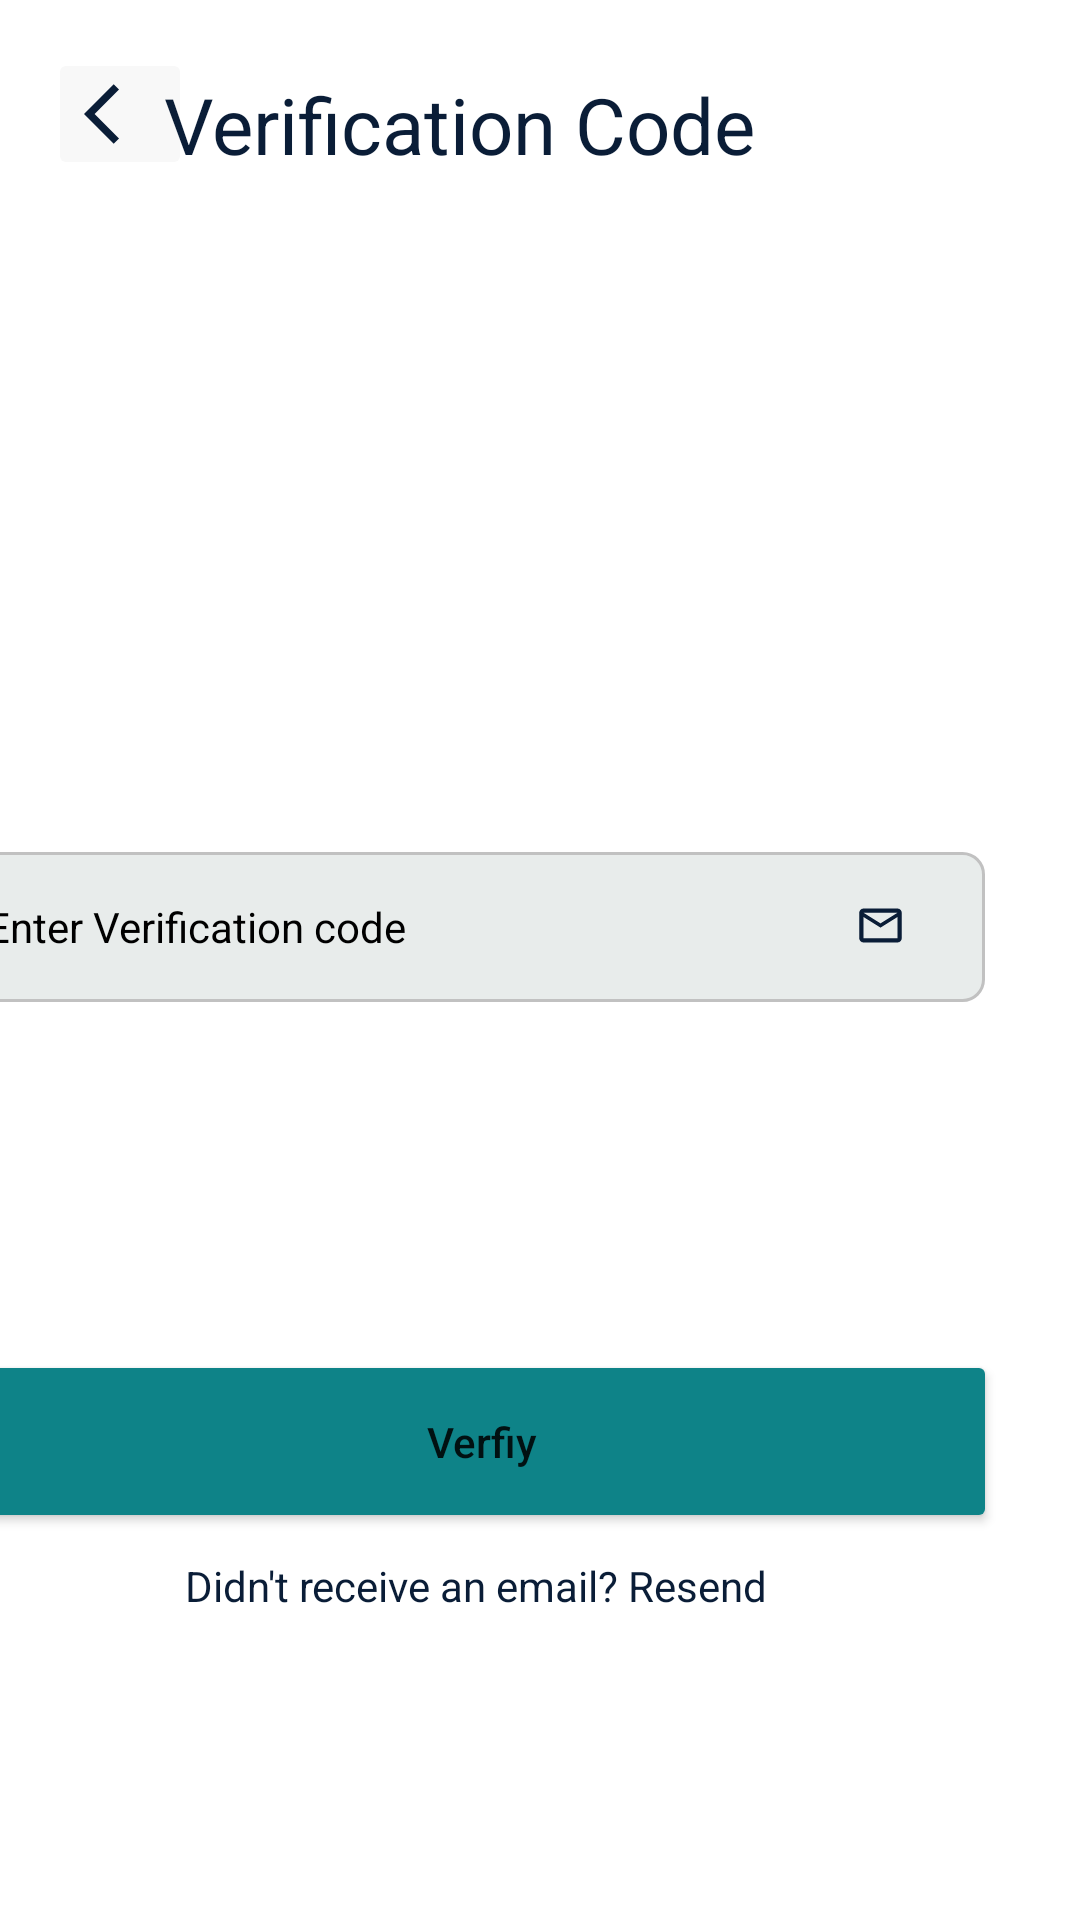

Icons on this 1080px x 1920px Android screen, each with the point to tap as [x,y]:
arrow back: [101,114]
email: [880,925]
